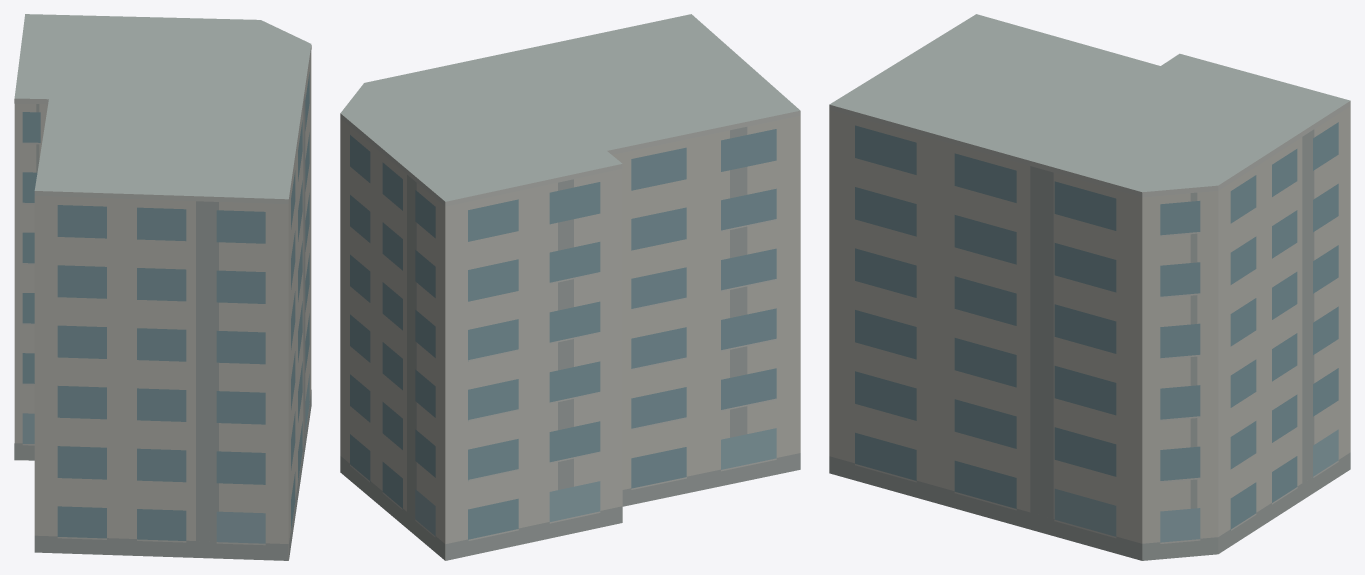
The model's file is survey-upis-33042189.glb.
3 views of the same model, side by side, from view 1: azimuth 30°, elevation 25°; view 2: azimuth 150°, elevation 25°; view 3: azimuth 270°, elevation 25° (orthographic). The views are drawn at different scales.
Visible parts, largest first — view 1: survey-upis-33042189.tmp; view 2: survey-upis-33042189.tmp; view 3: survey-upis-33042189.tmp.
Boxes of the visible parts, x1=… form: survey-upis-33042189.tmp: x1=14, y1=14, x2=311, y2=560; survey-upis-33042189.tmp: x1=340, y1=14, x2=800, y2=560; survey-upis-33042189.tmp: x1=829, y1=14, x2=1350, y2=560.
Bounding box in the file's own units: 18.15 × 17.5 × 22.44.
